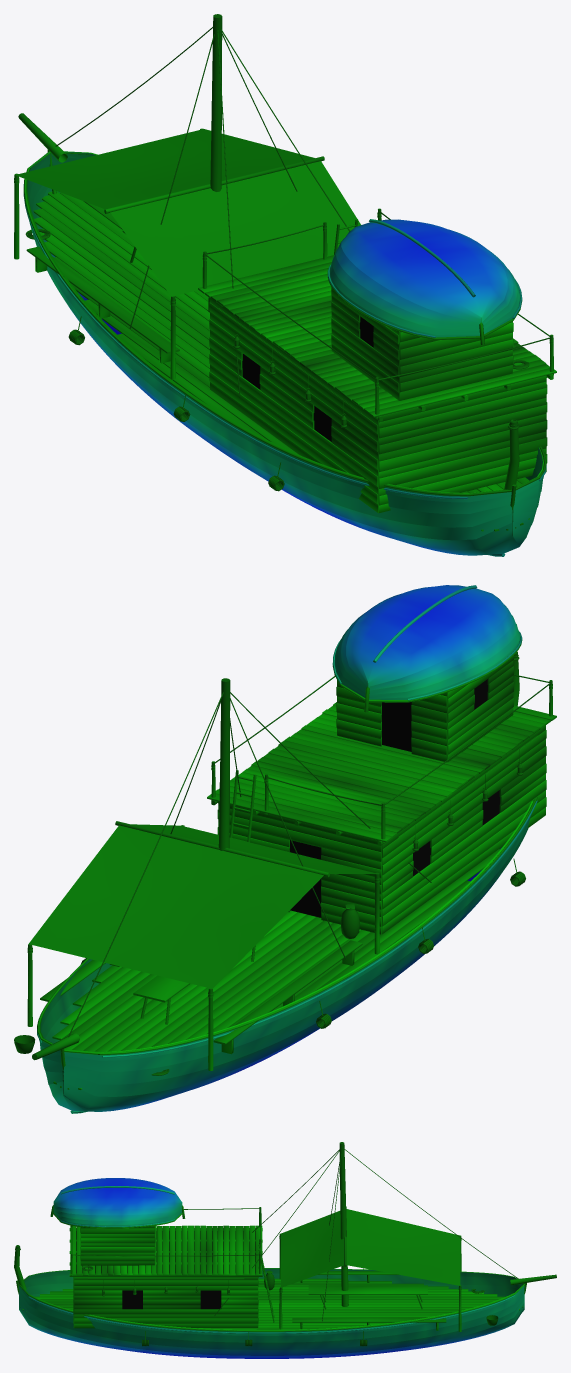
File: keel_hull.glb
3 renders of one model, top to bottom at view 1: azimuth 30°, elevation 25°; view 2: azimuth 150°, elevation 25°; view 3: azimuth 270°, elevation 25°, orthographic. The views are drawn at different scales.
Parts seen in each view (by area): view 1: keel_hull; view 2: keel_hull; view 3: keel_hull.
Part boxes in pixels (<box>): keel_hull: <box>14,14,556,556</box>; keel_hull: <box>14,585,556,1113</box>; keel_hull: <box>14,1142,556,1358</box>.
Size of what is drawn, in the model's own units: 6.96 by 9.83 by 23.63.
